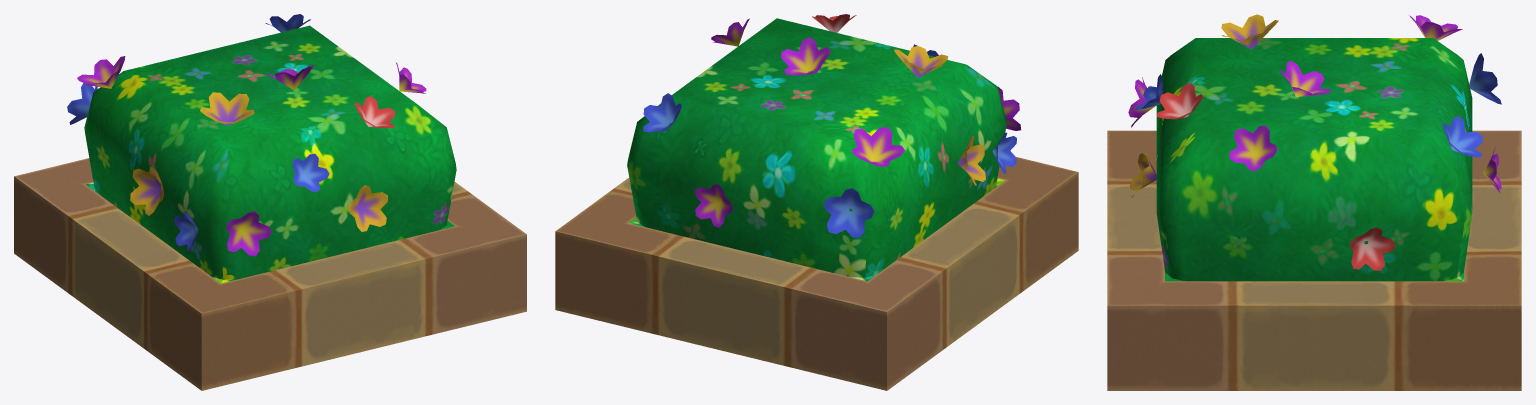
File: Plant04_b01.FBX
3 renders of one model, left to right at view 1: azimuth 30°, elevation 25°; view 2: azimuth 150°, elevation 25°; view 3: azimuth 270°, elevation 25°, orthographic. The views are drawn at different scales.
Parts seen in each view (by area): view 1: Plant04_b01; view 2: Plant04_b01; view 3: Plant04_b01.
Part boxes in pixels (x1,y1,x2,y2): Plant04_b01: (14, 14, 526, 390); Plant04_b01: (555, 14, 1078, 390); Plant04_b01: (1107, 14, 1521, 390).
Size of the model in its own units: 208 by 135 by 208.
3 materials, 3 textured.
